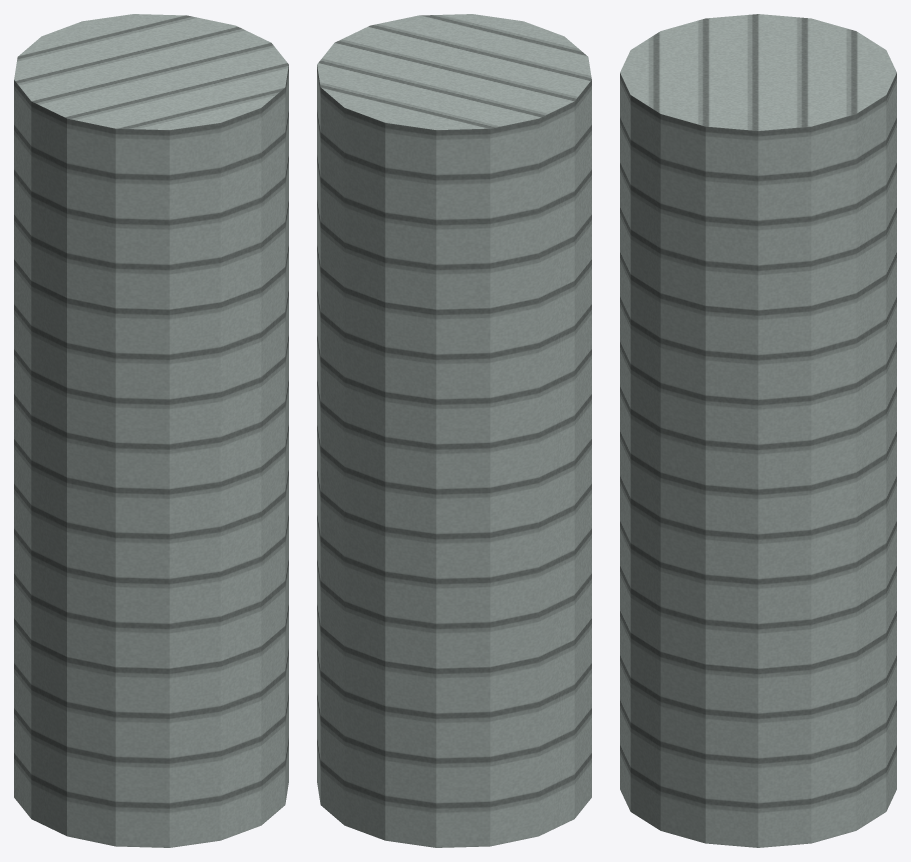
The model's file is propane_tank_farm.glb.
The picture shows the model from 3 angles, left to right: view 1: azimuth 30°, elevation 25°; view 2: azimuth 150°, elevation 25°; view 3: azimuth 270°, elevation 25°; orthographic projection.
Visible parts, largest first — view 1: propane_tank_farm-col; view 2: propane_tank_farm-col; view 3: propane_tank_farm-col.
Boxes of the visible parts, x1=… form: propane_tank_farm-col: x1=14, y1=14, x2=288, y2=847; propane_tank_farm-col: x1=317, y1=14, x2=591, y2=847; propane_tank_farm-col: x1=620, y1=14, x2=896, y2=847.
Size of the model in its own units: 0.7 by 2 by 0.7.
1 material, 1 textured.
